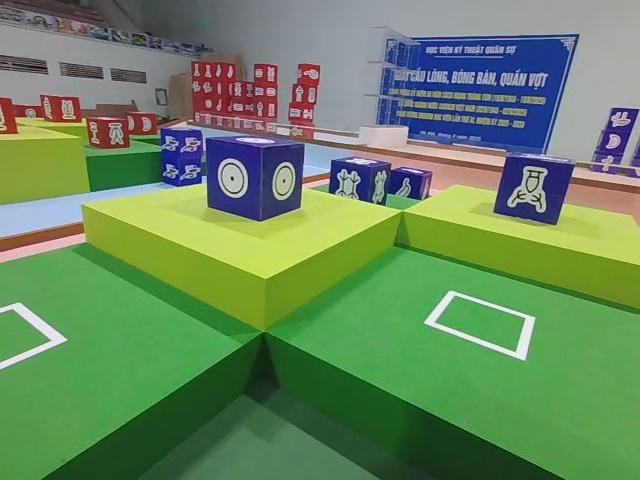R2 Real Blue: (206, 135, 307, 223), (496, 152, 579, 226), (329, 155, 392, 207), (388, 165, 434, 200)
